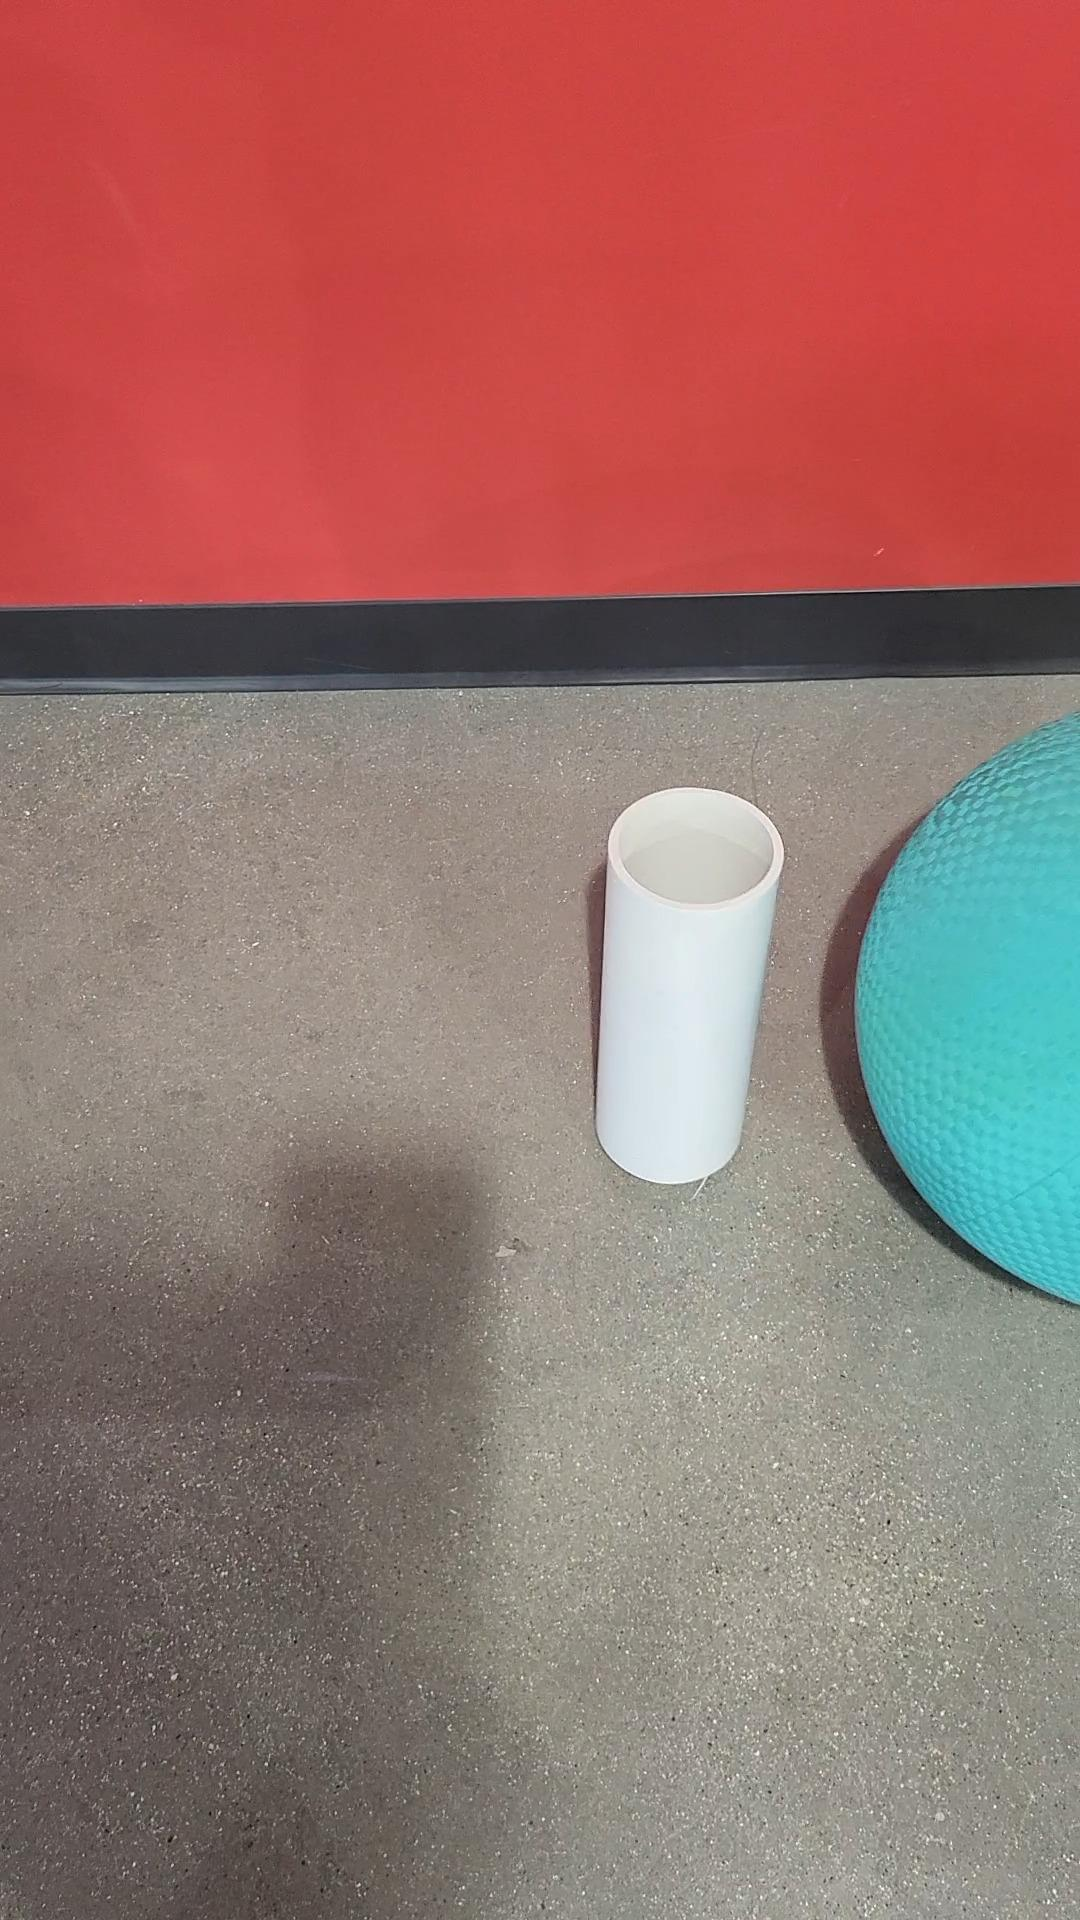algae: (851, 705, 1079, 1320)
coral: (585, 781, 787, 1189)
